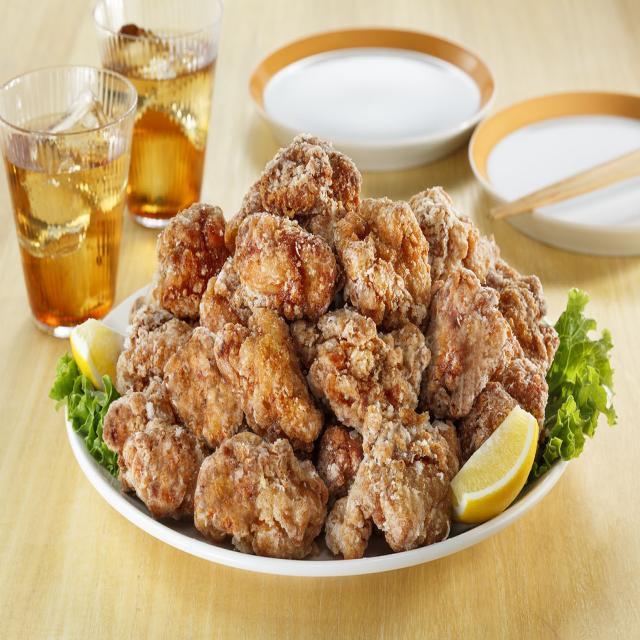Frango: (101, 134, 558, 558)
